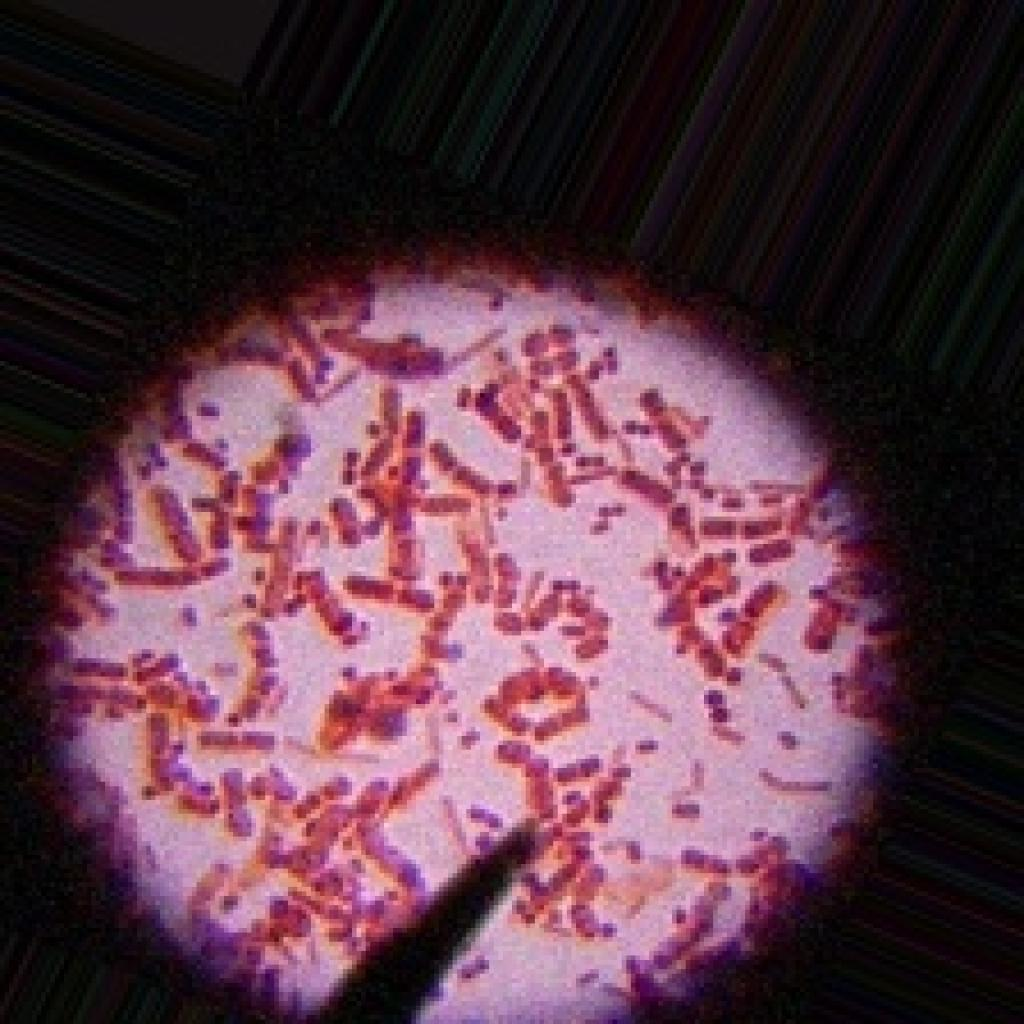Sprialbacteria: (18, 224, 924, 1019)
